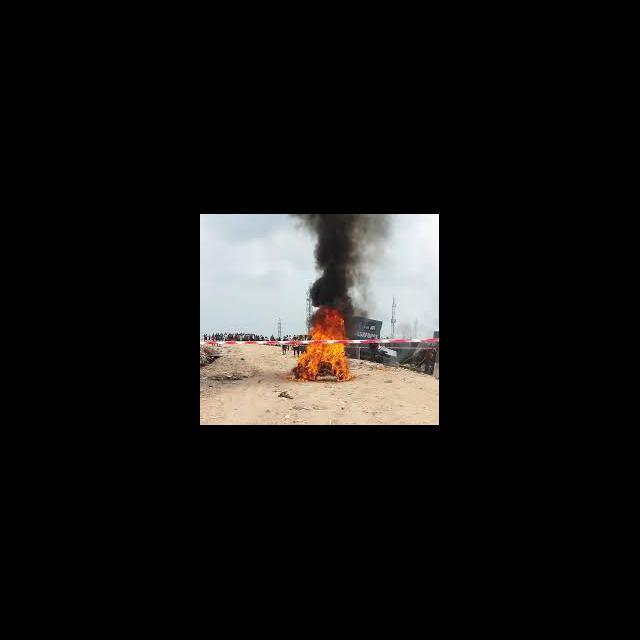Fire: (293, 306, 355, 384)
Smoke: (280, 214, 394, 306)
